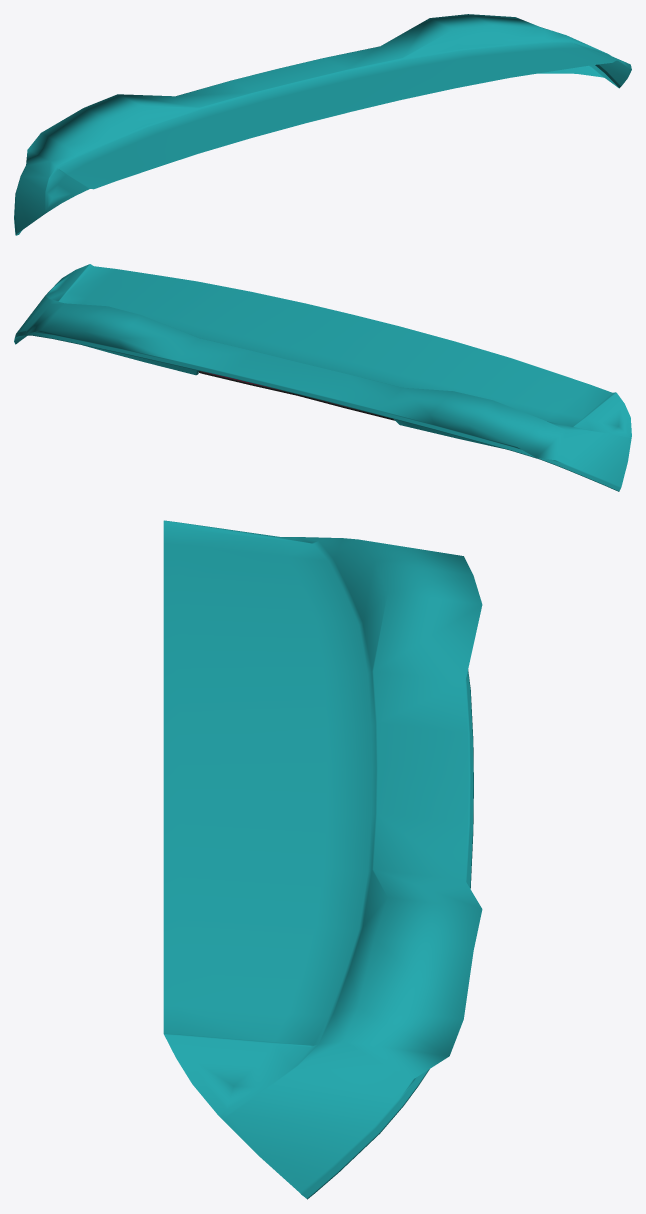
The model's file is car spoiler 3.glb.
The picture shows the model from 3 angles, top to bottom: view 1: azimuth 30°, elevation 25°; view 2: azimuth 150°, elevation 25°; view 3: azimuth 270°, elevation 25°; orthographic projection. The views are drawn at different scales.
Parts seen in each view (by area): view 1: RearDoor.004; view 2: RearDoor.004; view 3: RearDoor.004.
Part boxes in pixels (left/top/right/bottom): RearDoor.004: left=14, top=14, right=631, bottom=235; RearDoor.004: left=14, top=264, right=631, bottom=491; RearDoor.004: left=163, top=520, right=482, bottom=1199.
Bounding box in the file's own units: 1.24 × 0.1571 × 0.284.
